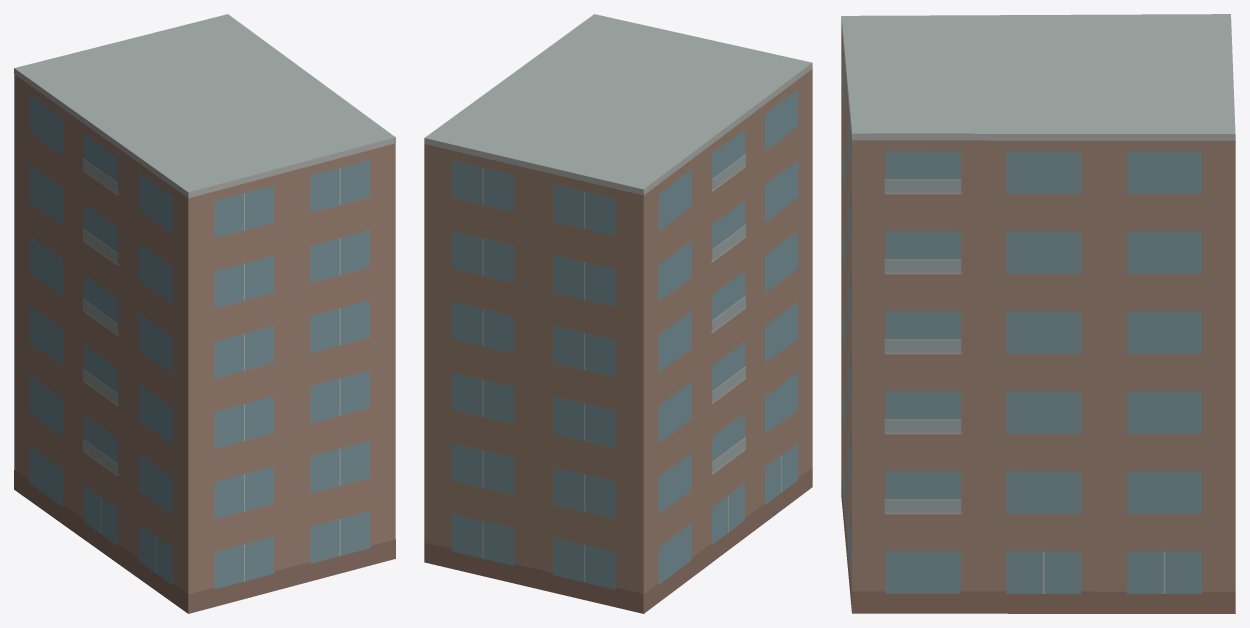
The model's file is survey-upis-32692384.glb.
The picture shows the model from 3 angles, left to right: view 1: azimuth 30°, elevation 25°; view 2: azimuth 150°, elevation 25°; view 3: azimuth 270°, elevation 25°; orthographic projection. The views are drawn at different scales.
Parts seen in each view (by area): view 1: survey-upis-32692384.tmp; view 2: survey-upis-32692384.tmp; view 3: survey-upis-32692384.tmp.
Part boxes in pixels (box(x1,y1,x2,y2)): survey-upis-32692384.tmp: box(14, 14, 395, 613); survey-upis-32692384.tmp: box(424, 14, 812, 613); survey-upis-32692384.tmp: box(841, 14, 1235, 613).
Bounding box in the file's own units: 9.41 × 17.5 × 13.03.
